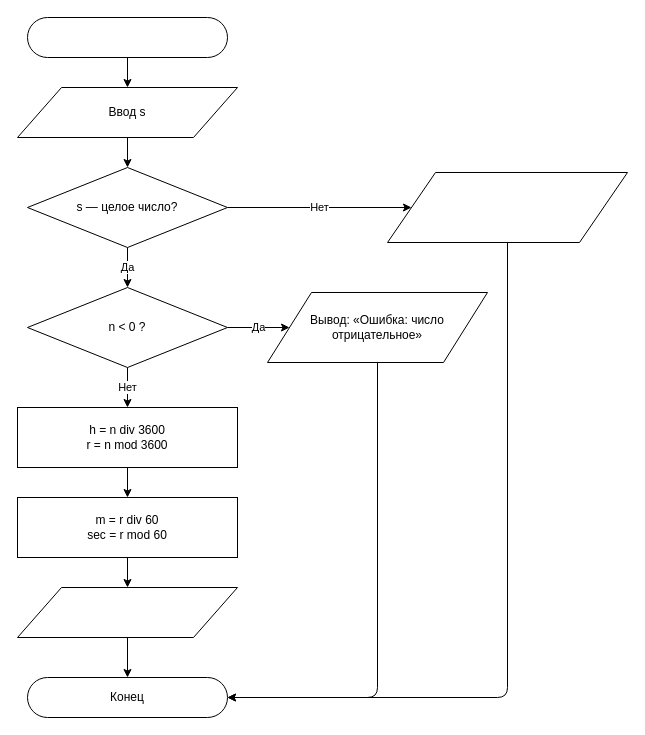
This 645x735 diagram has some shape labels left out. Each missing label, with the centre of its shape:
Вывод h, m, sec: (x=127, y=612)
Вывод: «Ошибка: нужно ввести целое число»: (x=507, y=207)
Начало: (x=127, y=37)
